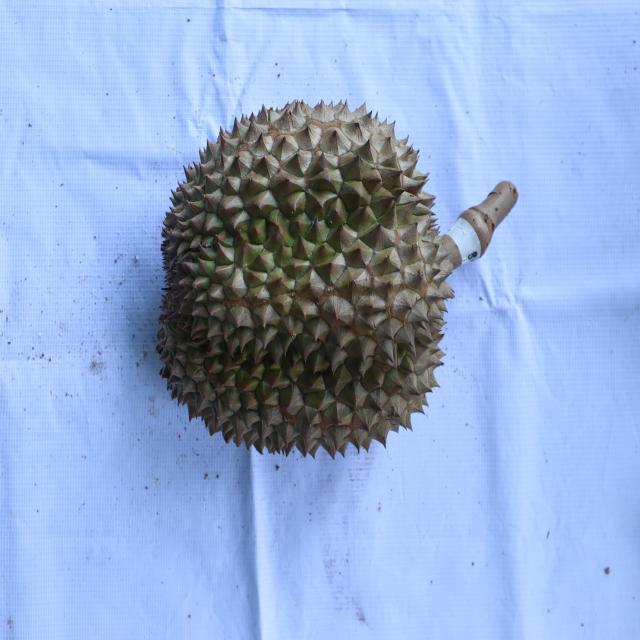mature: (154, 96, 456, 459)
